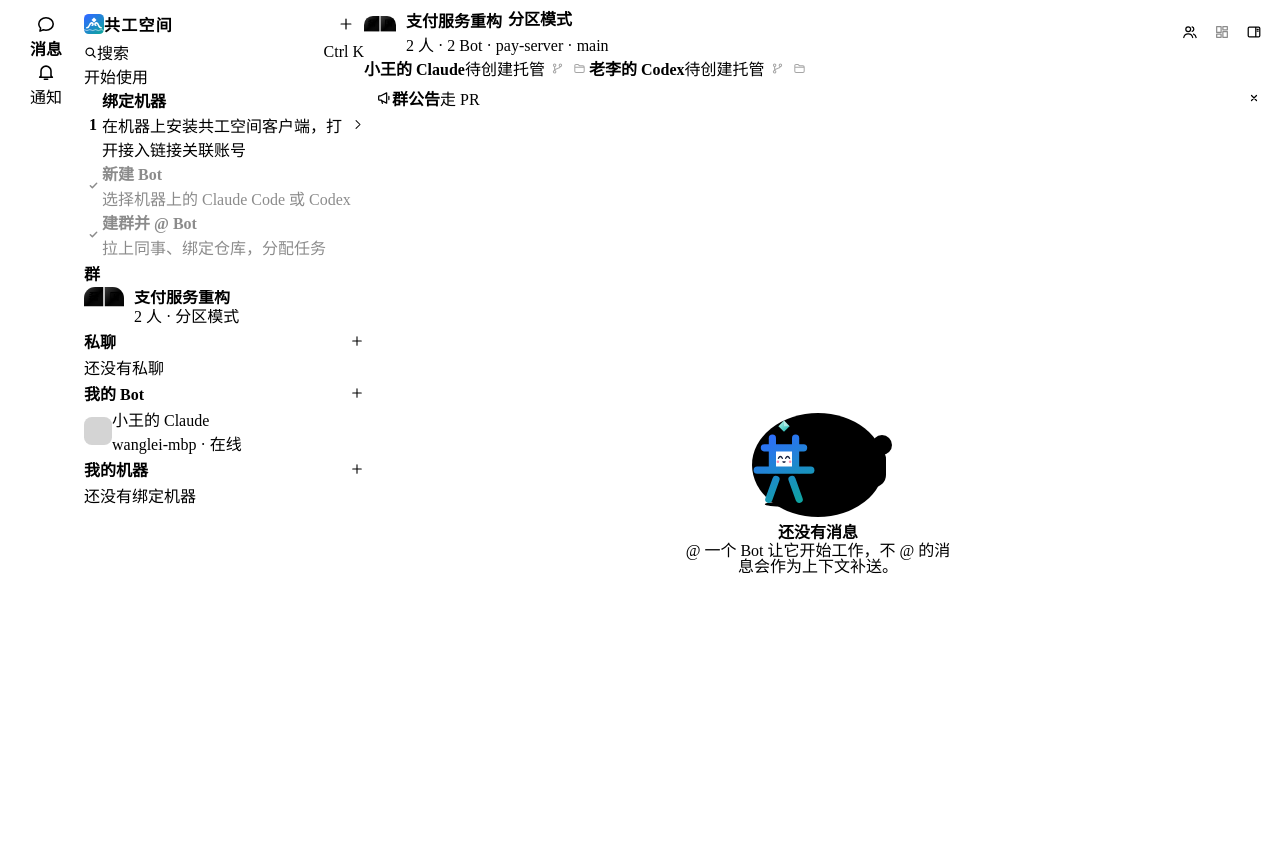
Test case: group settings inspector › lets an admin remove the notice for everyone after confirming
What coordinates should you click on to do the following:
click the button named "移除"
I would click on:
 (1254, 98)
Its box is [1242, 86, 1266, 110].
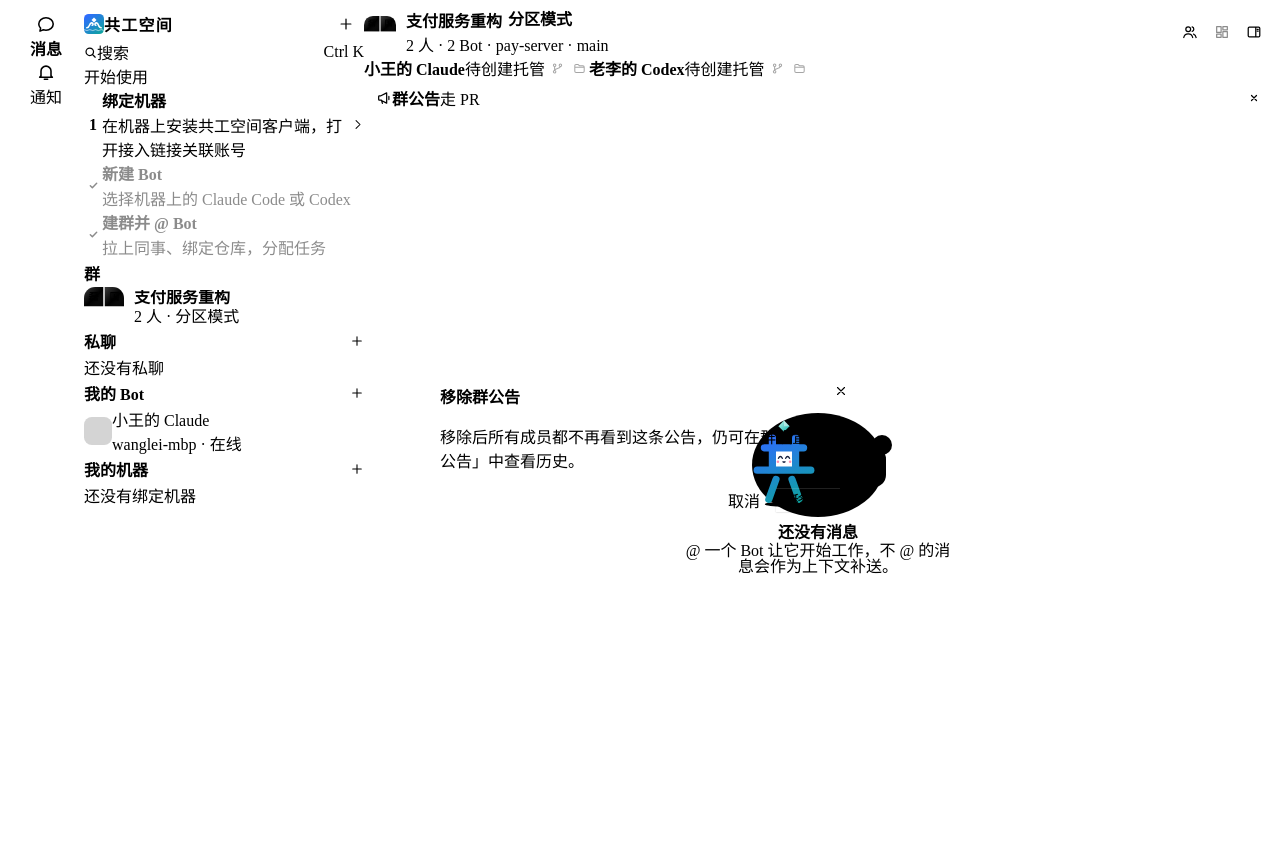
What coordinates should you click on to do the following:
click the button "移除"
I would click on:
 (808, 500)
Its box is [776, 488, 840, 512].
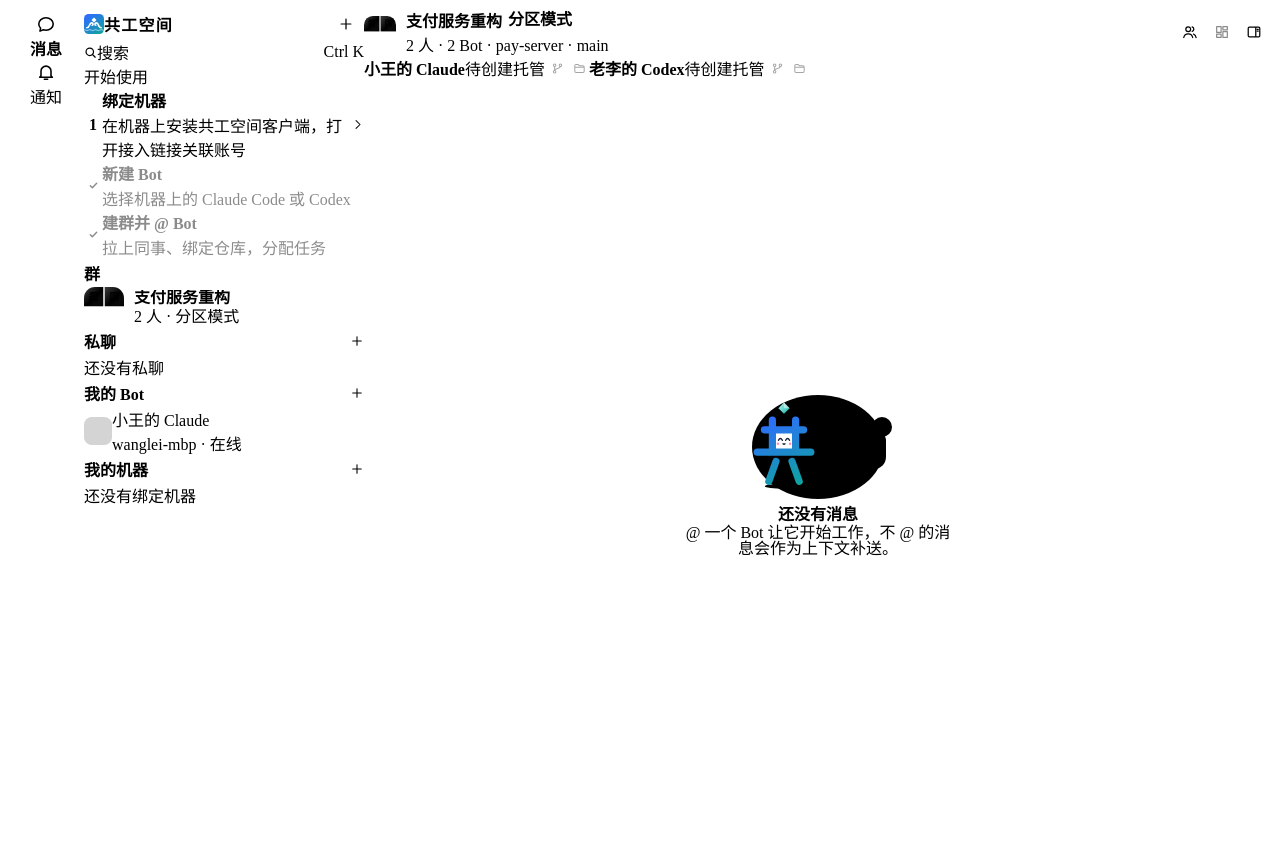
Result: the element with test id "group-notice" is gone
